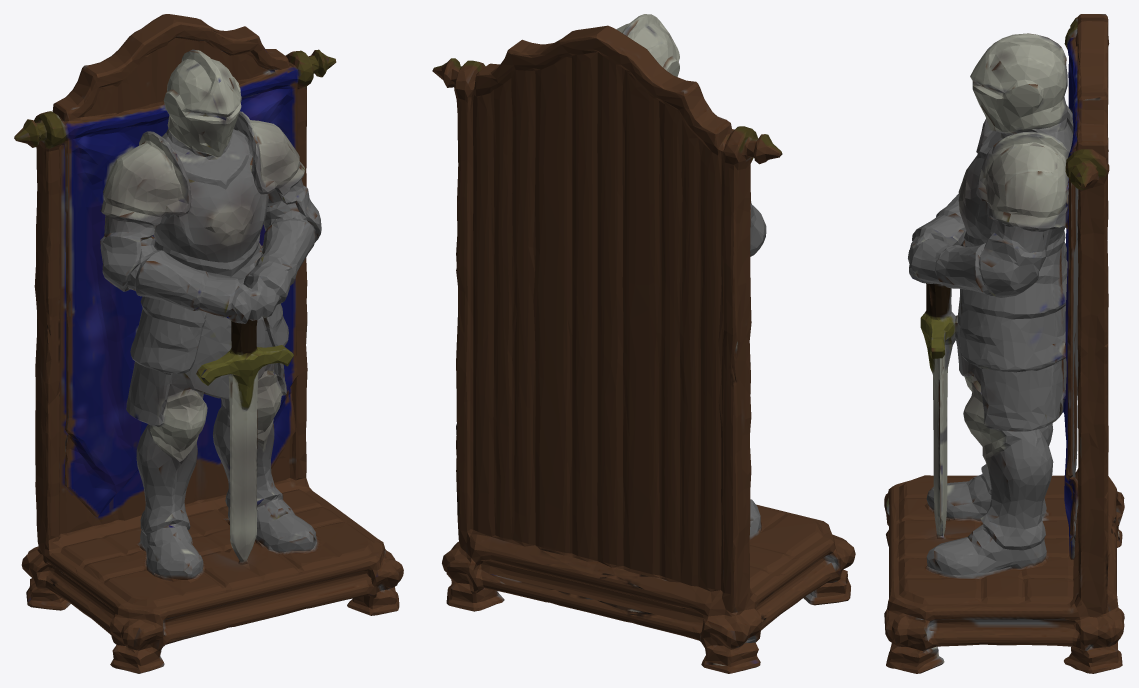
The model's file is armadura.glb.
3 views of the same model, side by side, from view 1: azimuth 30°, elevation 25°; view 2: azimuth 150°, elevation 25°; view 3: azimuth 270°, elevation 25° (orthographic). The views are drawn at different scales.
Visible parts, largest first — view 1: tmp857fiu1y.ply; view 2: tmp857fiu1y.ply; view 3: tmp857fiu1y.ply.
Boxes of the visible parts, x1,y1,x2,y2 form: tmp857fiu1y.ply: (14, 14, 403, 673); tmp857fiu1y.ply: (432, 14, 855, 673); tmp857fiu1y.ply: (884, 14, 1124, 673).
Size of the model in its own units: 1.19 by 1.96 by 0.7373.
1 material, 1 textured.
